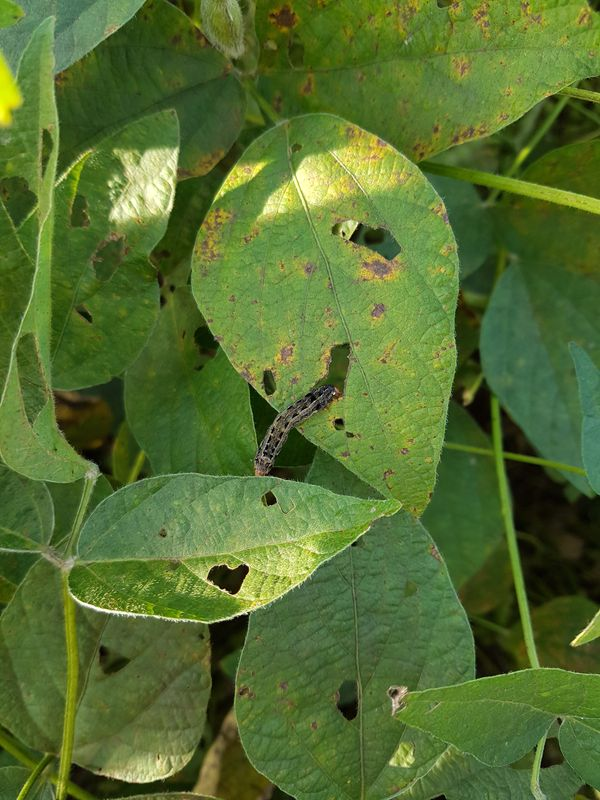Spodoptera_albula: (241, 371, 351, 485)
